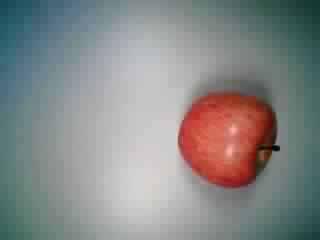apple: (175, 86, 280, 188)
